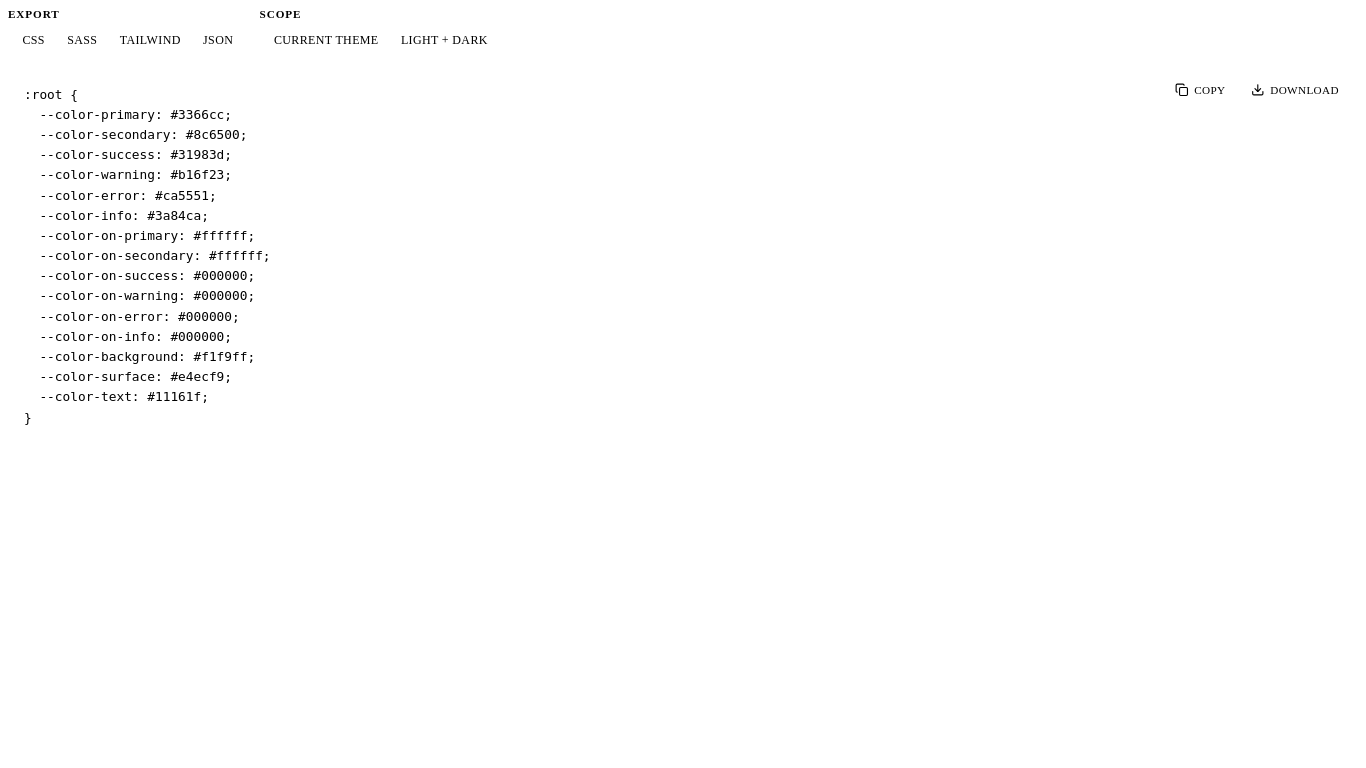
Test: ExportPanel › includes both themes in the CSS snippet once "light + dark" scope is picked
This screenshot has width=1366, height=768.
Step 1. Click the radio button labelled "light + dark" → [444, 40], box [390,27,499,53]
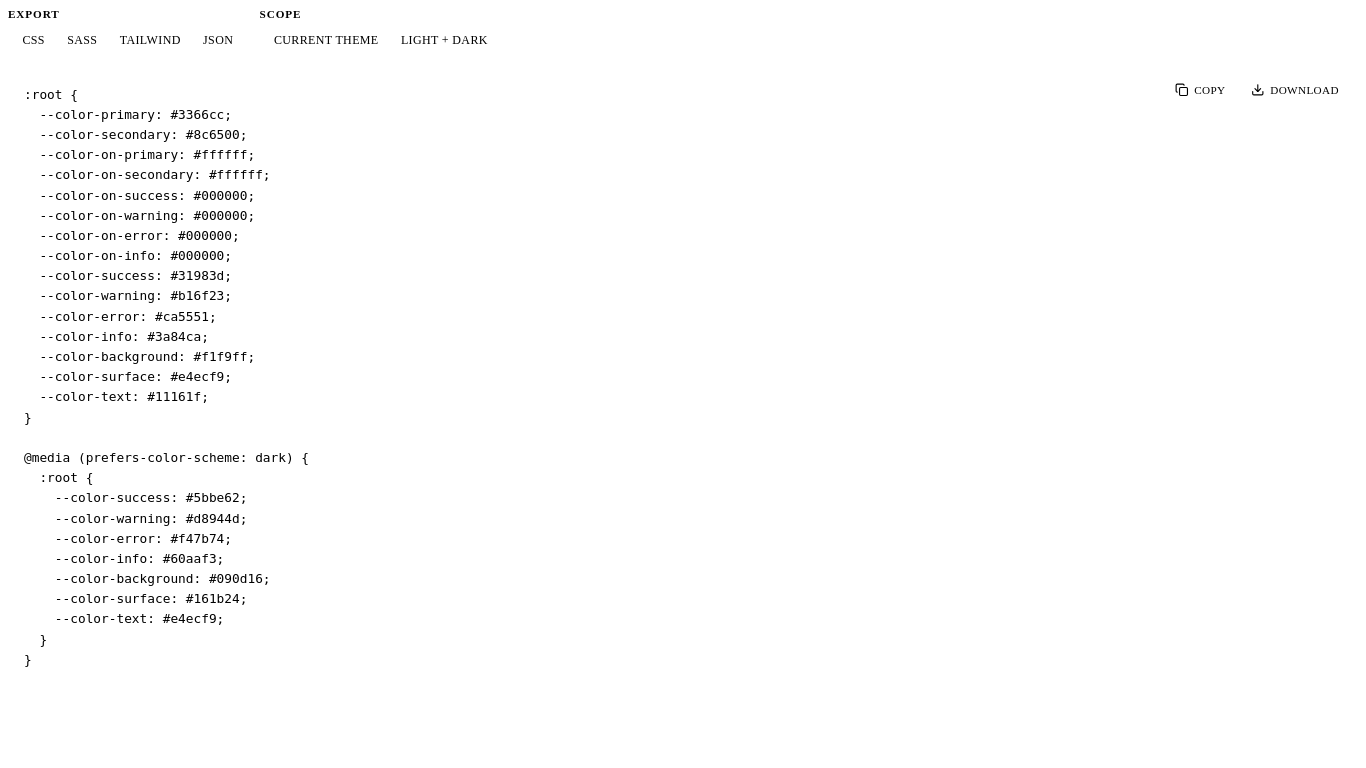
Now the text "prefers-color-scheme: dark" is shown, box [24,87,309,667]
